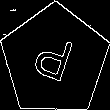P_S: (30, 30, 79, 90)
